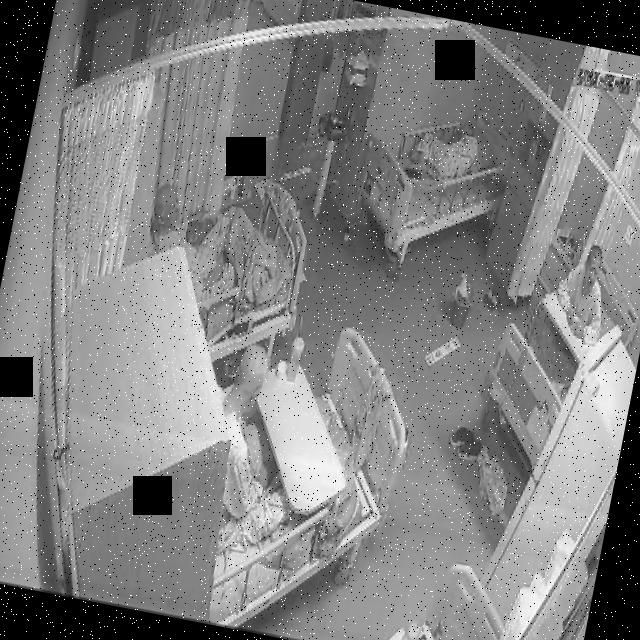bed: (173, 310, 424, 640), (470, 245, 640, 483), (152, 172, 316, 378), (350, 90, 520, 272)
lie: (403, 109, 492, 189)
patient: (191, 333, 324, 562), (137, 183, 240, 314), (549, 232, 618, 346), (404, 110, 492, 190)
sit: (190, 333, 324, 562), (138, 184, 282, 322), (550, 235, 618, 348)
